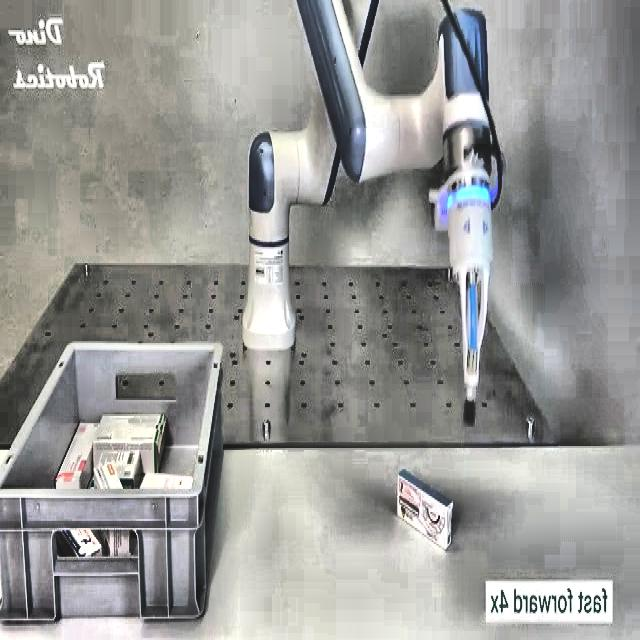robot: (242, 0, 505, 420)
